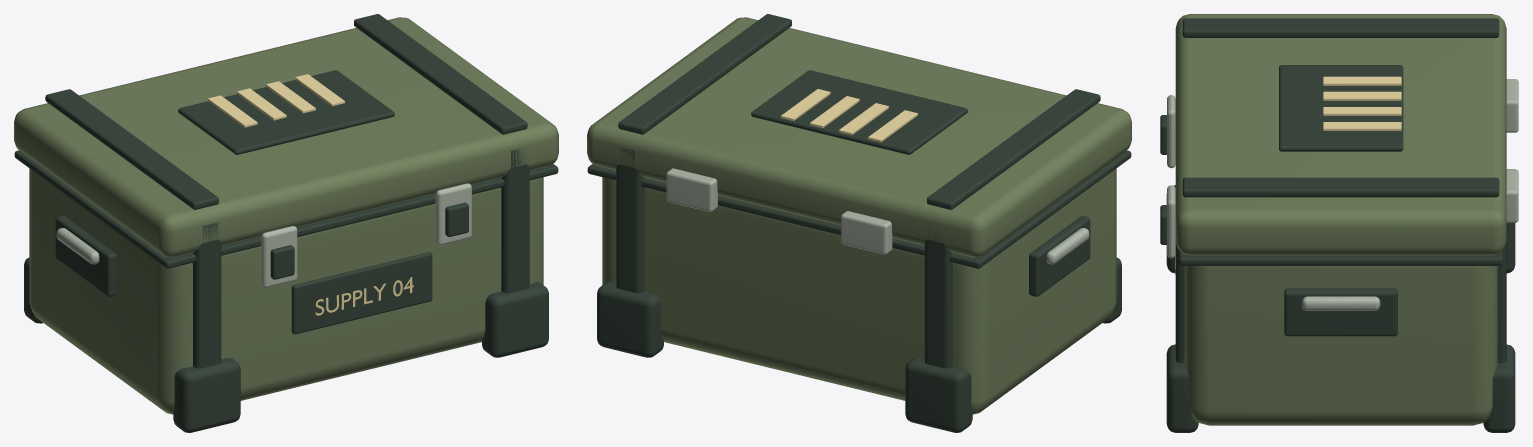
The model's file is military-crate.glb.
3 renders of one model, left to right at view 1: azimuth 30°, elevation 25°; view 2: azimuth 150°, elevation 25°; view 3: azimuth 270°, elevation 25°, orthographic. The views are drawn at different scales.
Visible parts, largest first — view 1: Reinforced lid, Military supply case, Lid stencil plate, ID plaque, Top tie down band, Top tie down band.001, Lid gasket, Corner armor, Corner armor.002, Vertical reinforcement, Vertical reinforcement.001, Handle mount (+10 smaller); view 2: Military supply case, Reinforced lid, Lid stencil plate, Top tie down band, Top tie down band.001, Corner armor.001, Lid gasket, Corner armor.003, Vertical reinforcement.001, Vertical reinforcement, Handle mount, Rear hinge.001 (+6 smaller); view 3: Reinforced lid, Military supply case, Lid stencil plate, Top tie down band.001, Top tie down band, Handle mount.001, Lid gasket, Vertical reinforcement.001, Corner armor.002, Corner armor.003, Carry handle.001, Top stripe (+8 smaller).
Boxes of the visible parts, x1,y1,x2,y2 form: Reinforced lid: [14, 17, 558, 257]; Military supply case: [29, 168, 543, 414]; Lid stencil plate: [178, 70, 394, 154]; ID plaque: [291, 252, 432, 334]; Top tie down band: [45, 89, 218, 209]; Top tie down band.001: [354, 14, 527, 134]; Lid gasket: [14, 150, 558, 268]; Corner armor: [173, 358, 240, 432]; Corner armor.002: [482, 282, 548, 357]; Vertical reinforcement: [192, 222, 221, 368]; Vertical reinforcement.001: [501, 148, 529, 293]; Handle mount: [55, 216, 116, 296]; Military supply case: [602, 168, 1116, 414]; Reinforced lid: [587, 17, 1131, 257]; Lid stencil plate: [751, 70, 967, 154]; Top tie down band: [927, 89, 1100, 209]; Top tie down band.001: [618, 14, 791, 134]; Corner armor.001: [905, 358, 972, 432]; Lid gasket: [587, 150, 1131, 268]; Corner armor.003: [597, 282, 663, 357]; Vertical reinforcement.001: [616, 147, 644, 293]; Vertical reinforcement: [924, 226, 953, 368]; Handle mount: [1029, 216, 1090, 296]; Rear hinge.001: [666, 168, 717, 211]; Reinforced lid: [1175, 14, 1506, 255]; Military supply case: [1184, 266, 1497, 425]; Lid stencil plate: [1279, 65, 1403, 151]; Top tie down band.001: [1182, 177, 1499, 197]; Top tie down band: [1182, 18, 1499, 37]; Handle mount.001: [1284, 288, 1397, 336]; Lid gasket: [1179, 250, 1502, 265]; Vertical reinforcement.001: [1175, 242, 1506, 363]; Corner armor.002: [1166, 344, 1198, 432]; Corner armor.003: [1483, 344, 1515, 432]; Carry handle.001: [1302, 296, 1380, 310]; Top stripe: [1323, 76, 1401, 85].
Size of the model in its own units: 1.47 by 0.74 by 1.01.
